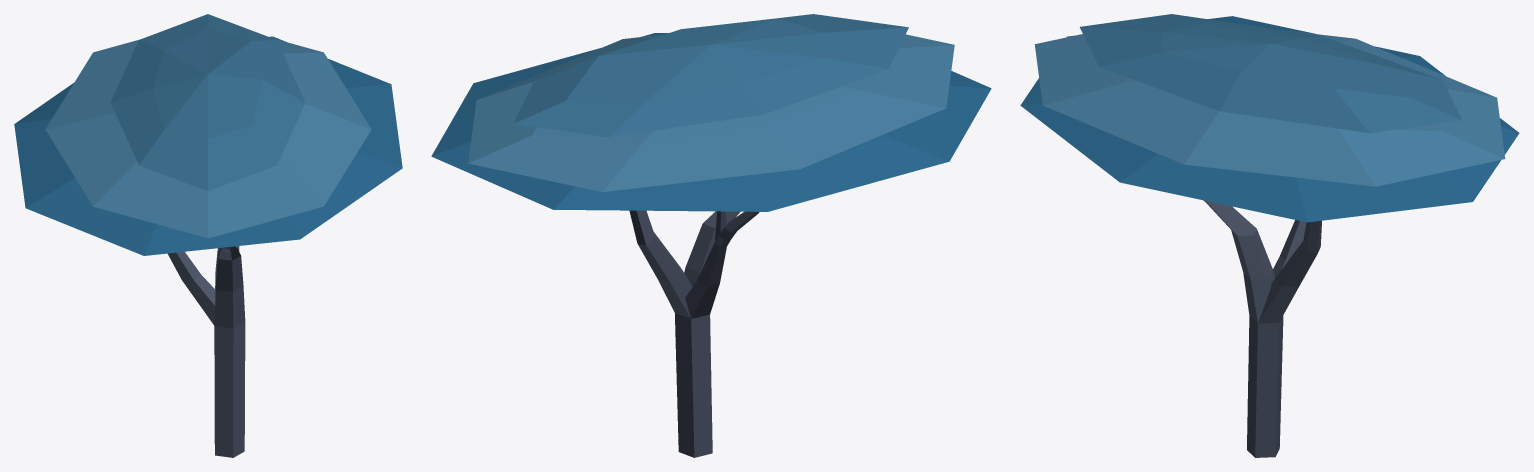
The model's file is SP_Tree01.glb.
3 renders of one model, left to right at view 1: azimuth 30°, elevation 25°; view 2: azimuth 150°, elevation 25°; view 3: azimuth 270°, elevation 25°, orthographic. The views are drawn at different scales.
Visible parts, largest first — view 1: SP_Tree01; view 2: SP_Tree01; view 3: SP_Tree01.
Boxes of the visible parts, <box> form: SP_Tree01: <box>14,14,402,457</box>; SP_Tree01: <box>431,14,991,457</box>; SP_Tree01: <box>1020,14,1519,457</box>.
Bounding box in the file's own units: 4.29 × 3.87 × 4.39.
